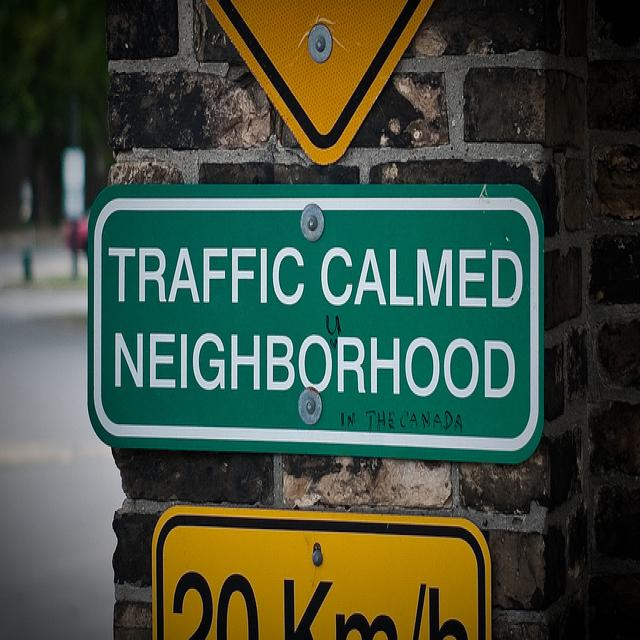Vehicle: (60, 212, 89, 251)
